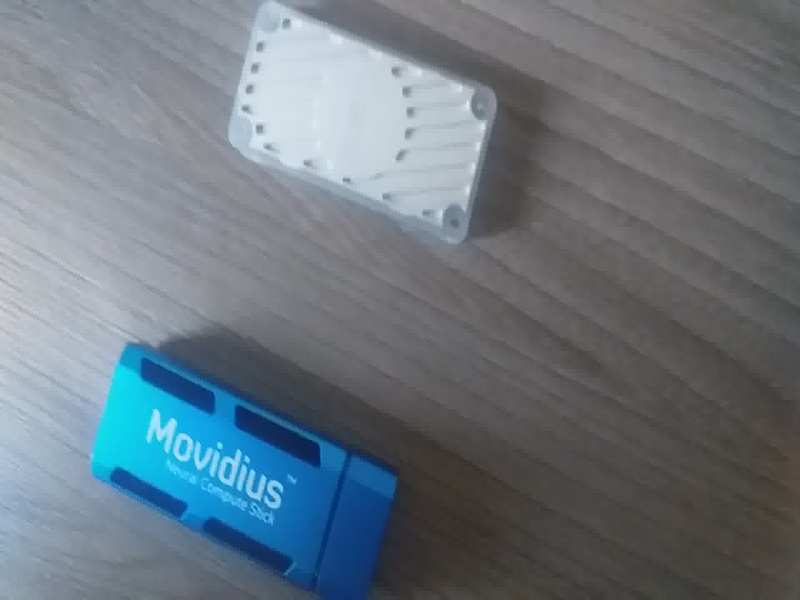coral: (216, 6, 517, 246)
movidius: (71, 337, 411, 600)
